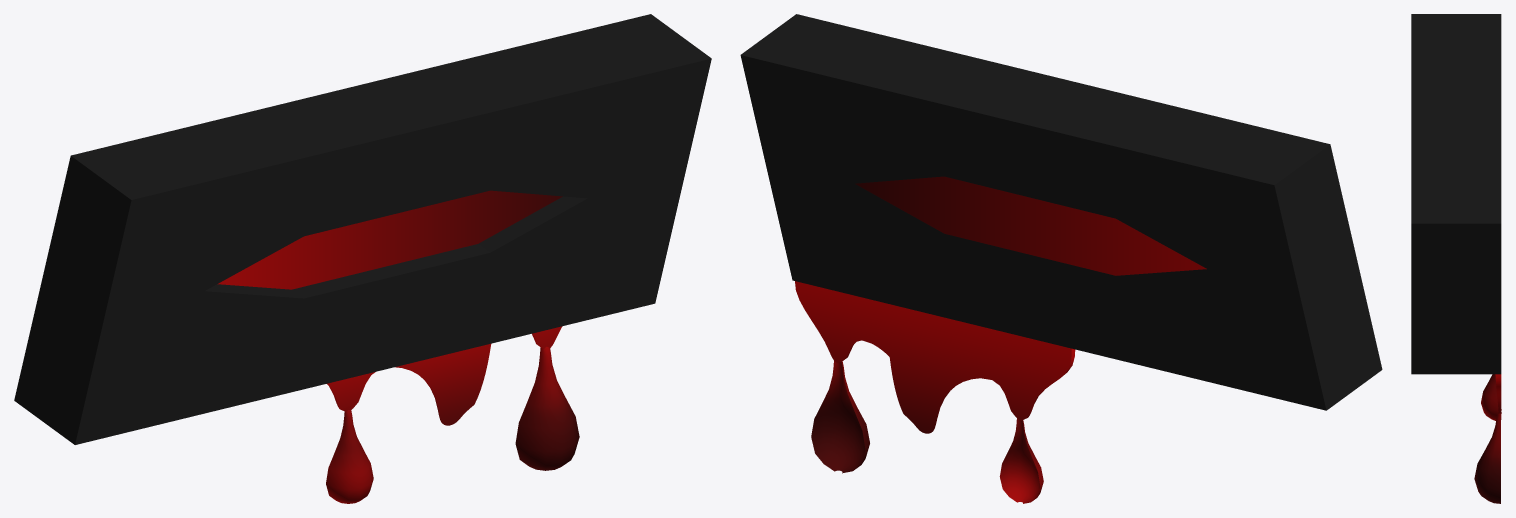
File: Minus.FBX
3 renders of one model, left to right at view 1: azimuth 30°, elevation 25°; view 2: azimuth 150°, elevation 25°; view 3: azimuth 270°, elevation 25°, orthographic. The views are drawn at different scales.
Visible parts, largest first — view 1: Minus, Minus_Element, Blood_144; view 2: Minus, Blood_144, Minus_Element; view 3: Minus, Blood_144.
Part boxes in pixels (x1,y1,x2,y2): Minus: (14, 14, 711, 444); Minus_Element: (217, 190, 562, 289); Blood_144: (326, 326, 579, 503); Minus: (740, 14, 1382, 410); Blood_144: (795, 281, 1075, 503); Minus_Element: (855, 176, 1206, 275); Minus: (1411, 14, 1501, 374); Blood_144: (1474, 374, 1501, 503).
Bounding box in the file's own units: 30.22 × 19.4 × 5.01.
2 materials, 1 textured.
